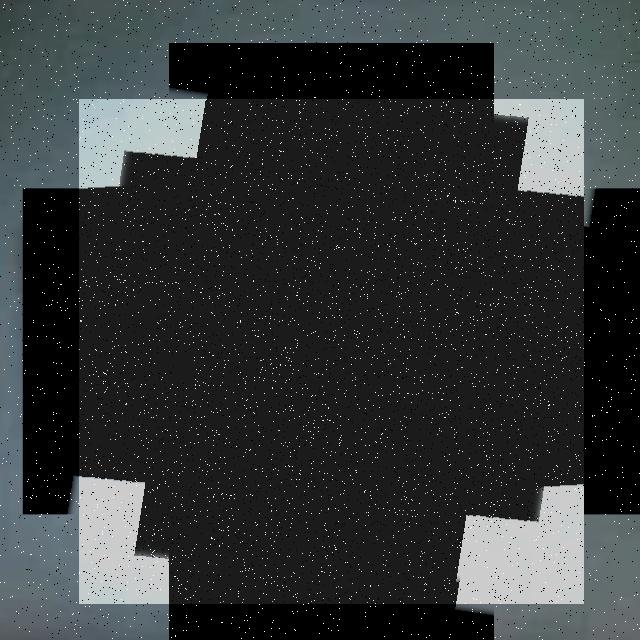lima puluh ribu rupiah: (79, 99, 584, 604)
